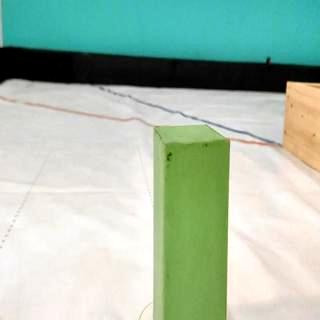greenbox: (154, 122, 232, 320)
